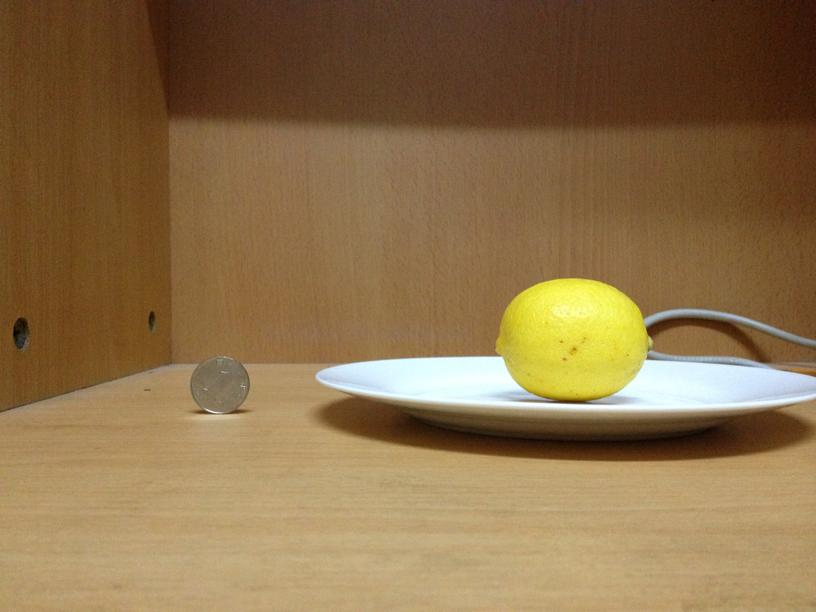coin: (191, 354, 250, 413)
lemon: (499, 277, 647, 401)
